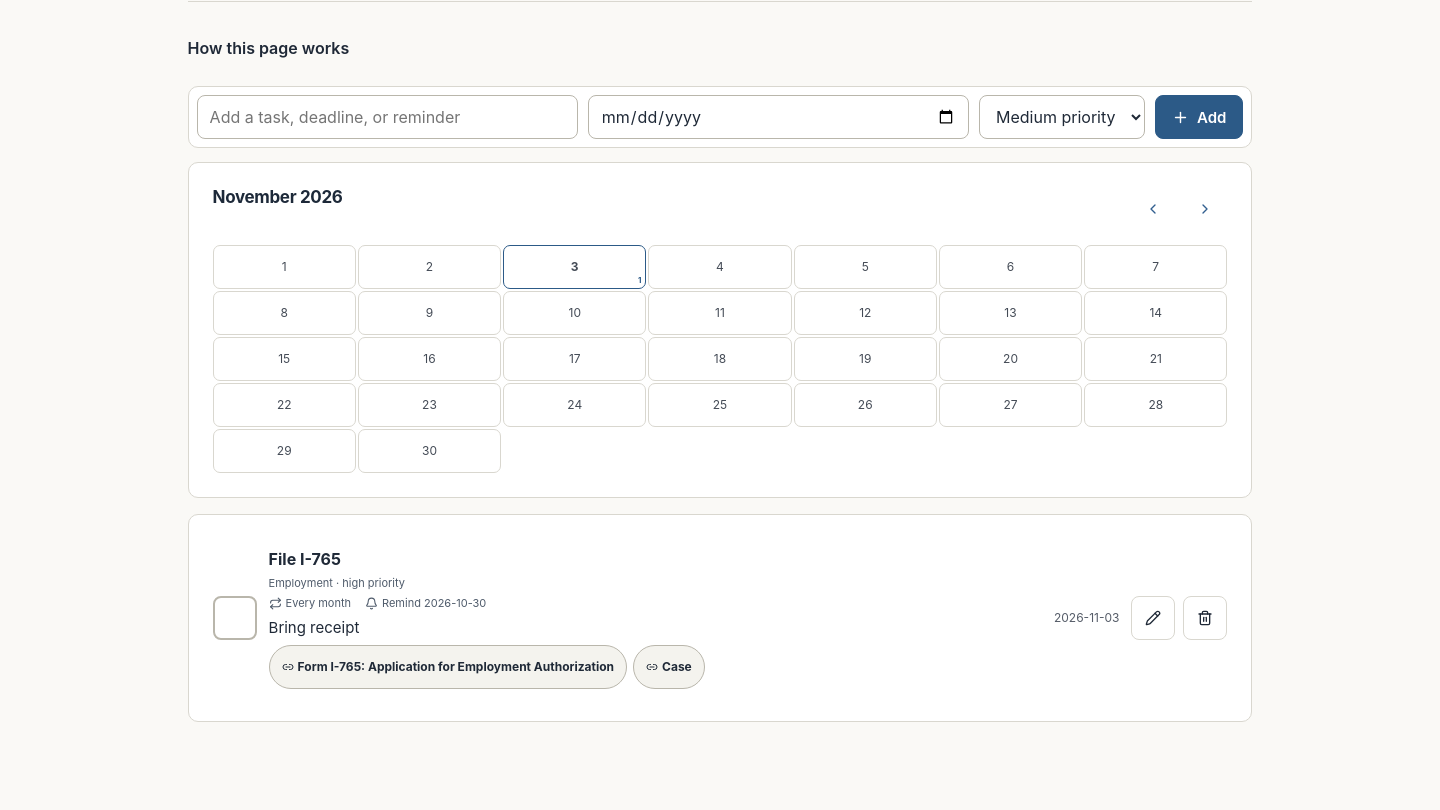
Test case: finishing a repeating task › explains a failure to create the next repeat
The image size is (1440, 810).
(page scrolled)
What coordinates should you click on to do the following:
click the button named "Complete File I-765"
I would click on:
 (235, 618)
Its box is x1=213 y1=596 x2=257 y2=640.
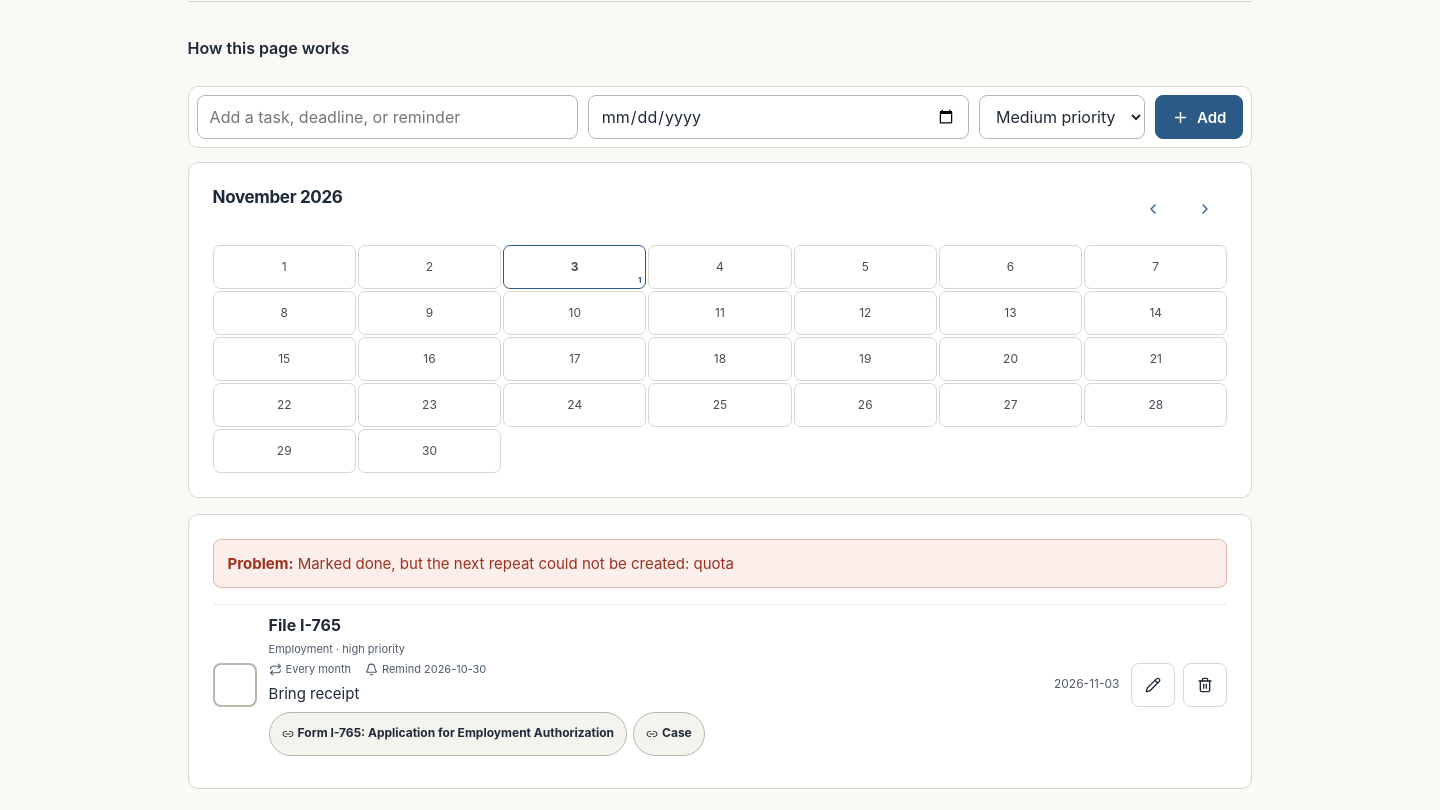
expect the message shows "Marked done": met, box x1=298 y1=554 x2=734 y2=573
